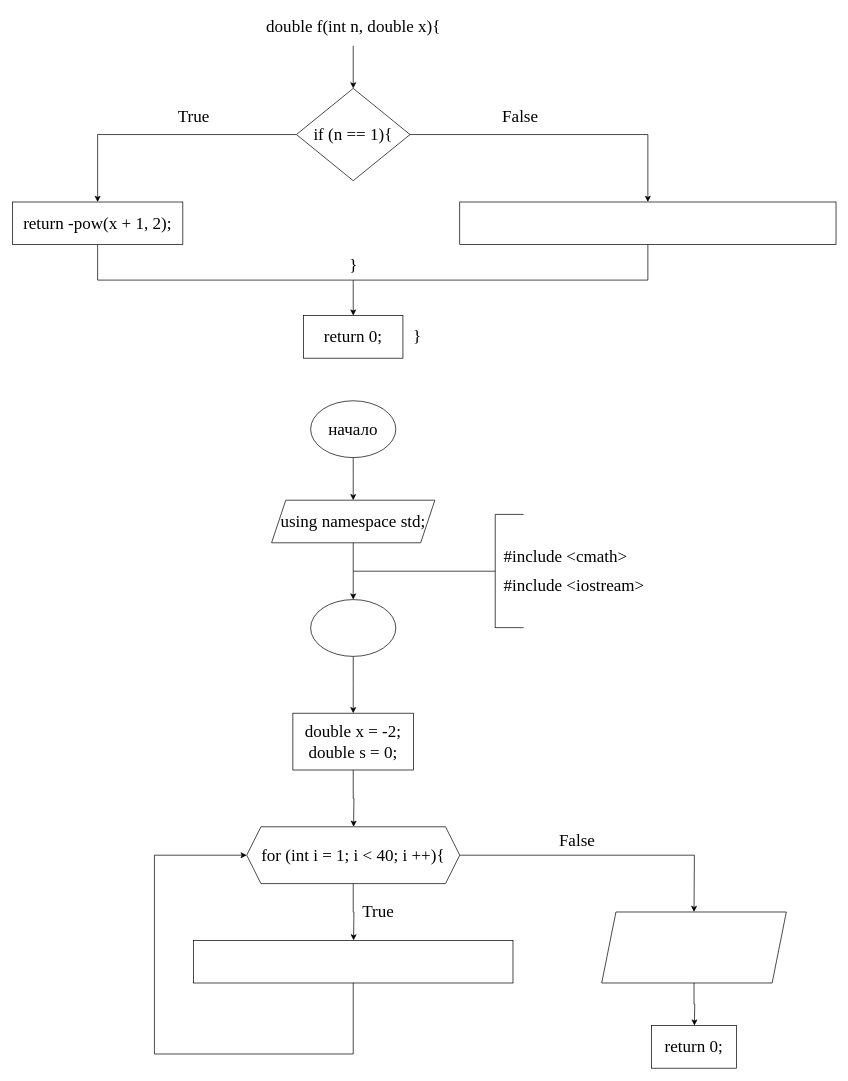
Image size: 848x1081. Some labels were removed from this diagram. The centre of each missing label's shape, as x and y in pixels:
"cout << s << endl; cout << f(40, -2);" goes at [693,947].
"int main(){" goes at [353,627].
"return pow(-1, n) * pow(x + 1, 2* n) / n + f (n-1, x);" goes at [647,223].
"s = s + pow(-1, n) * pow (x + 1, 2 * i) / i;" goes at [353,961].
